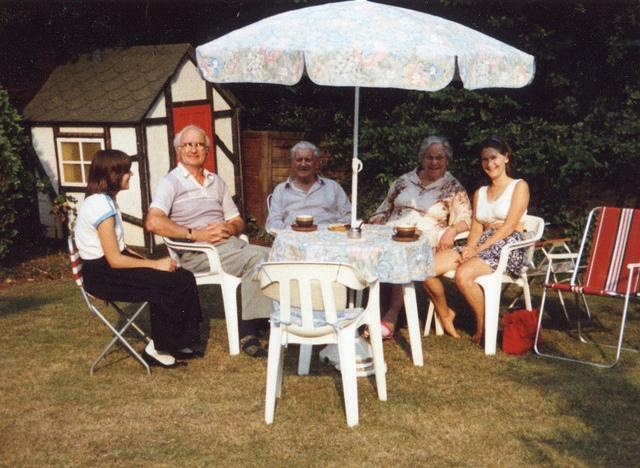Kursi: (257, 261, 388, 427)
